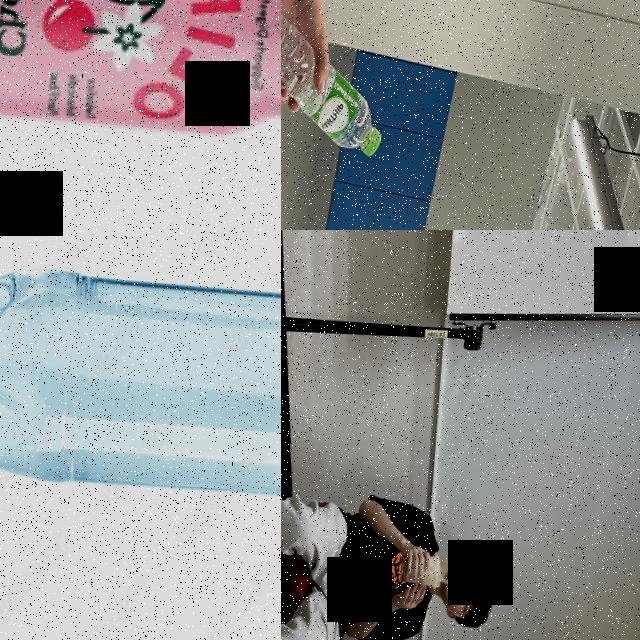bottle: (0, 260, 281, 519), (281, 3, 392, 159)
can: (0, 0, 281, 139)
cup: (397, 550, 442, 590)
